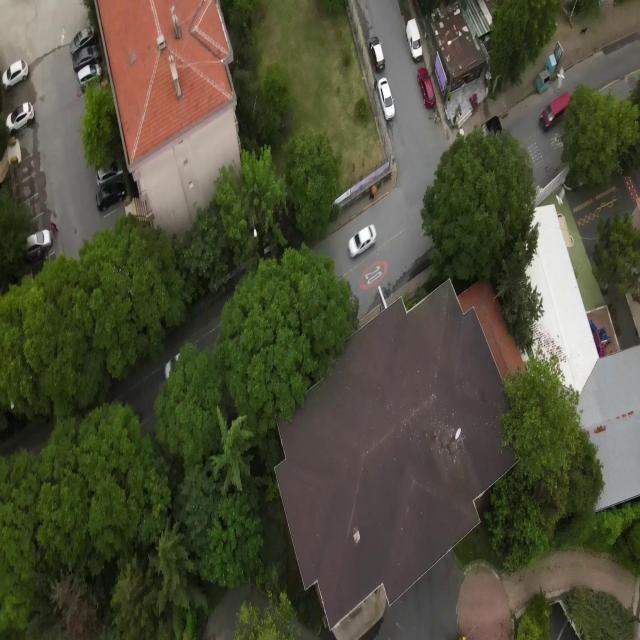p3rson: (50, 222, 55, 235), (373, 77, 377, 91)
